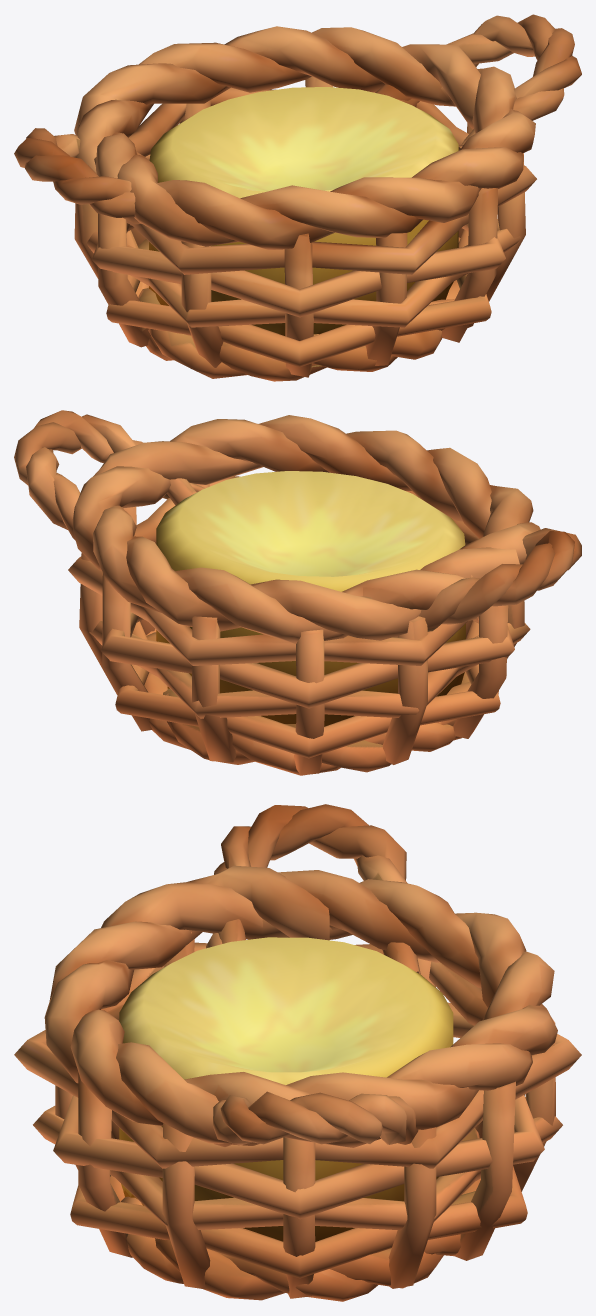
Rendered from SM_newnew_basket.fbx.
3 renders of one model, top to bottom at view 1: azimuth 30°, elevation 25°; view 2: azimuth 150°, elevation 25°; view 3: azimuth 270°, elevation 25°, orthographic. The views are drawn at different scales.
Parts seen in each view (by area): view 1: Circle.018, M_basket_high.001; view 2: Circle.018, M_basket_high.001; view 3: Circle.018, M_basket_high.001.
Boxes of the visible parts, x1=… form: Circle.018: x1=14, y1=14, x2=581, y2=381; M_basket_high.001: x1=149, y1=87, x2=458, y2=335; Circle.018: x1=14, y1=410, x2=581, y2=775; M_basket_high.001: x1=156, y1=471, x2=465, y2=726; Circle.018: x1=14, y1=804, x2=581, y2=1301; M_basket_high.001: x1=119, y1=937, x2=453, y2=1241.
Size of the model in its own units: 66.24 by 26.73 by 50.95.
Materials: 2 (2 with a texture image).
